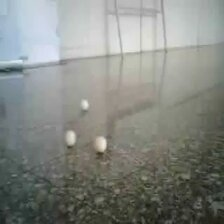tennis: (146, 86, 163, 109), (69, 69, 84, 89), (161, 62, 173, 78)
